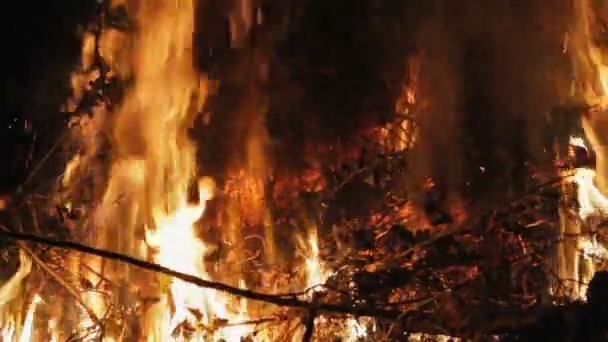fire: (1, 1, 269, 342), (296, 230, 332, 300), (574, 236, 608, 300), (566, 168, 608, 217), (343, 319, 367, 342), (568, 136, 588, 152)
